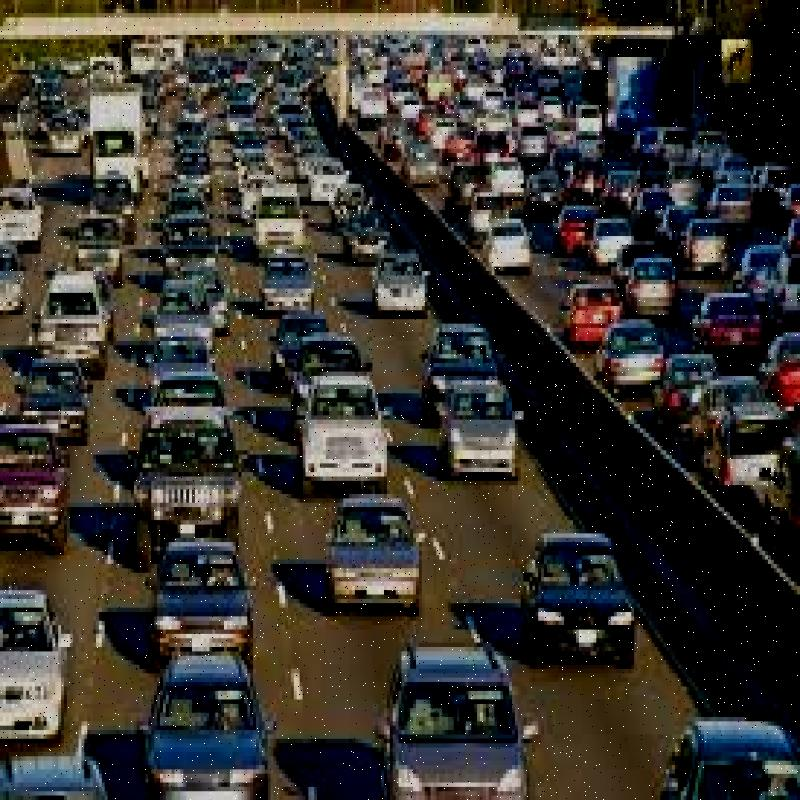car: (136, 396, 249, 574), (511, 512, 633, 670), (139, 659, 269, 800), (148, 532, 265, 675), (0, 562, 78, 738), (305, 497, 423, 612), (434, 373, 533, 508), (7, 329, 106, 450), (0, 411, 74, 547), (42, 249, 109, 395), (413, 317, 482, 423), (483, 210, 554, 306), (277, 312, 350, 398), (372, 226, 430, 333), (242, 186, 309, 265), (70, 196, 121, 296), (590, 315, 654, 392), (264, 259, 324, 341), (567, 277, 624, 357), (625, 256, 704, 308), (88, 161, 127, 236), (595, 215, 629, 286)
